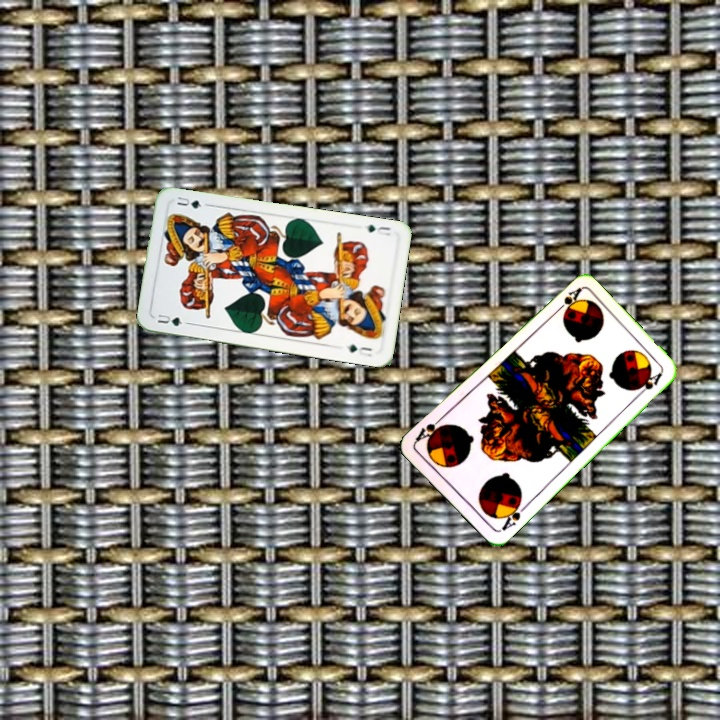GU: (153, 310, 186, 329), (363, 220, 393, 238)
SA: (497, 496, 530, 534), (550, 284, 584, 316)
